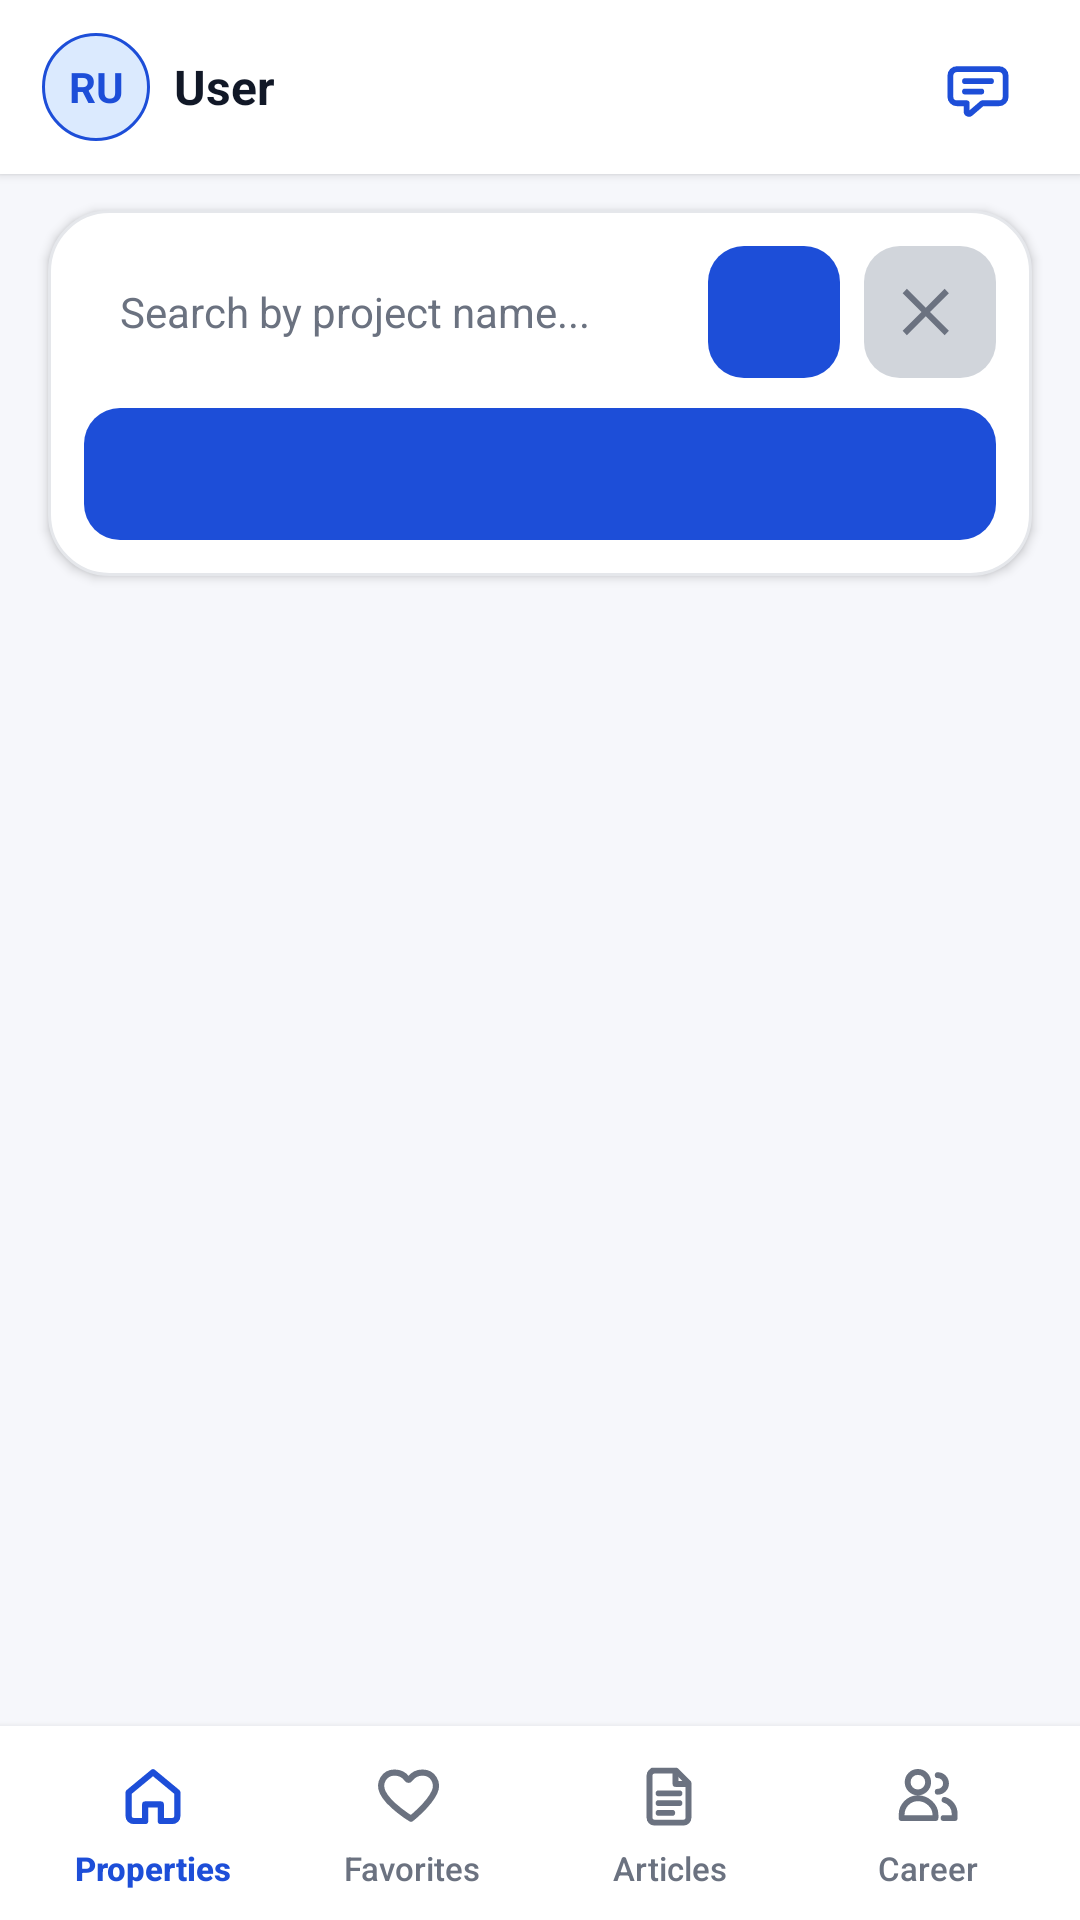

Screen size 1080 × 1920. Icon name, then its center in pixels as point (x, y):
Clear: point (930, 312)
